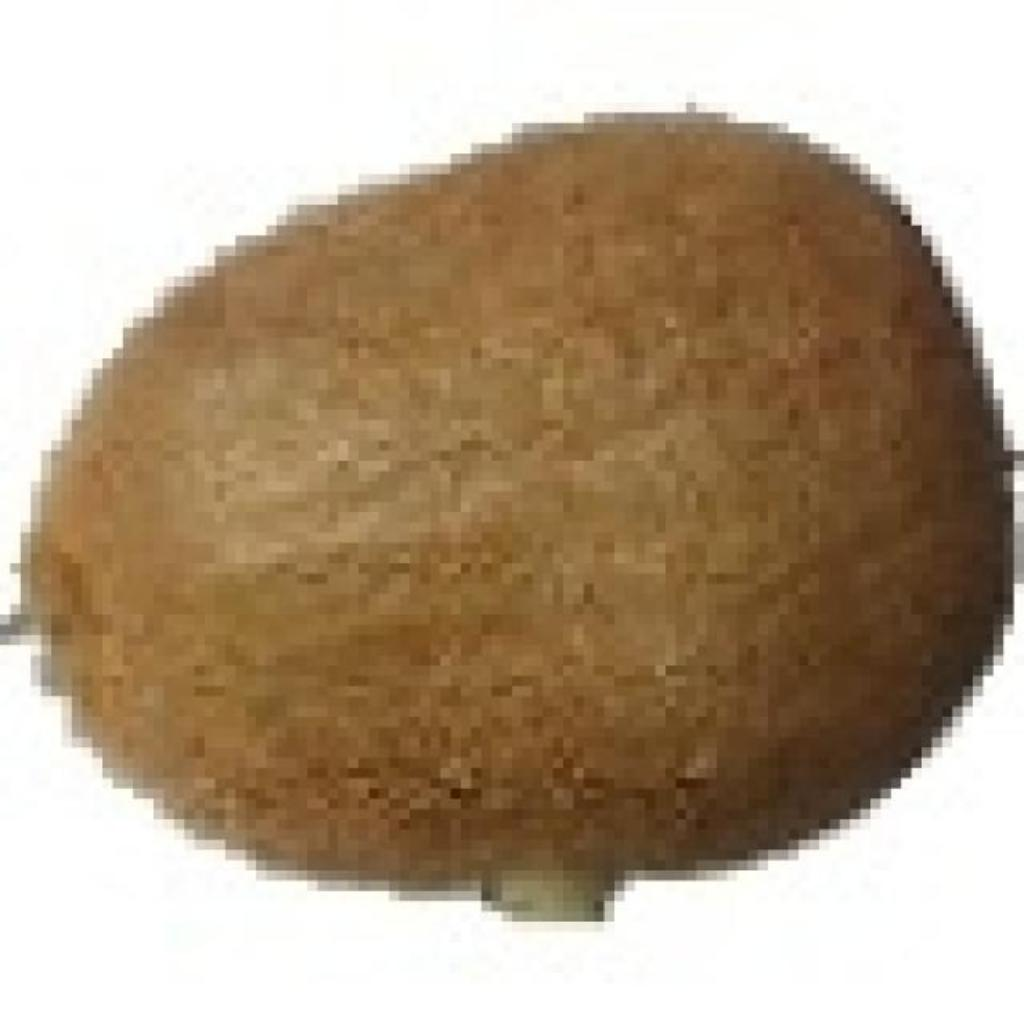kiwi: (20, 102, 993, 891)
